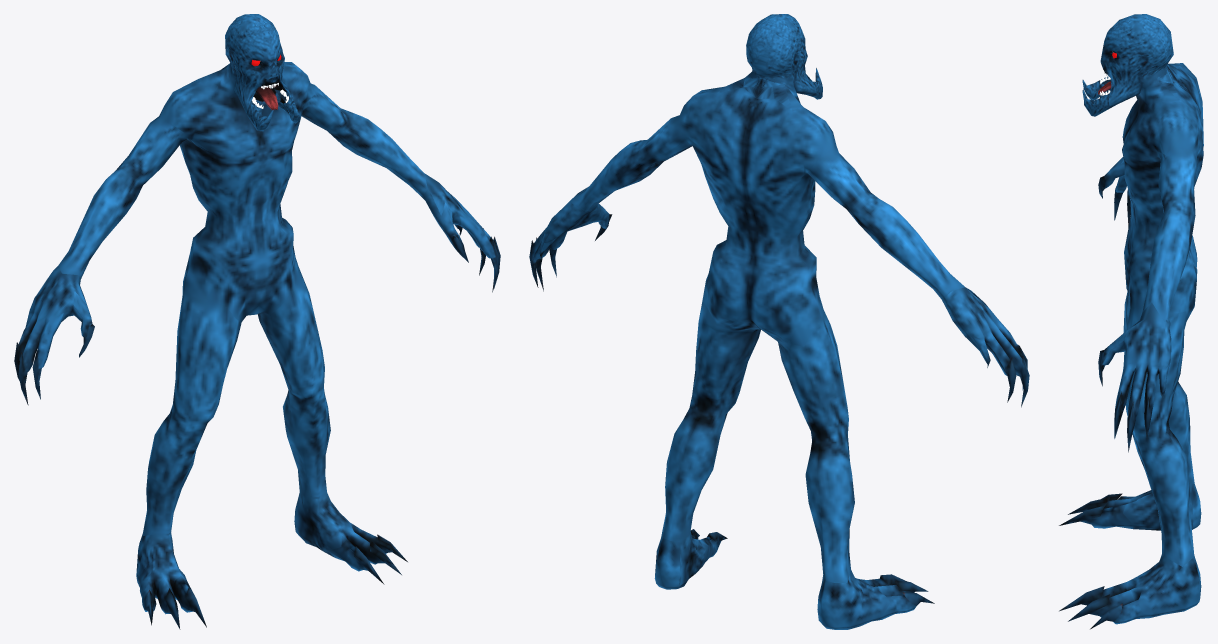
The model's file is Ghoul.glb.
3 renders of one model, left to right at view 1: azimuth 30°, elevation 25°; view 2: azimuth 150°, elevation 25°; view 3: azimuth 270°, elevation 25°, orthographic. The views are drawn at different scales.
Visible parts, largest first — view 1: Ghoul; view 2: Ghoul; view 3: Ghoul.
Part boxes in pixels (x1,y1,x2,y2): Ghoul: (14,14,500,629); Ghoul: (529,14,1029,629); Ghoul: (1059,14,1203,629).
Size of what is drawn, in the model's own units: 2.58 by 2.86 by 0.6832.
Materials: 2 (2 with a texture image).
